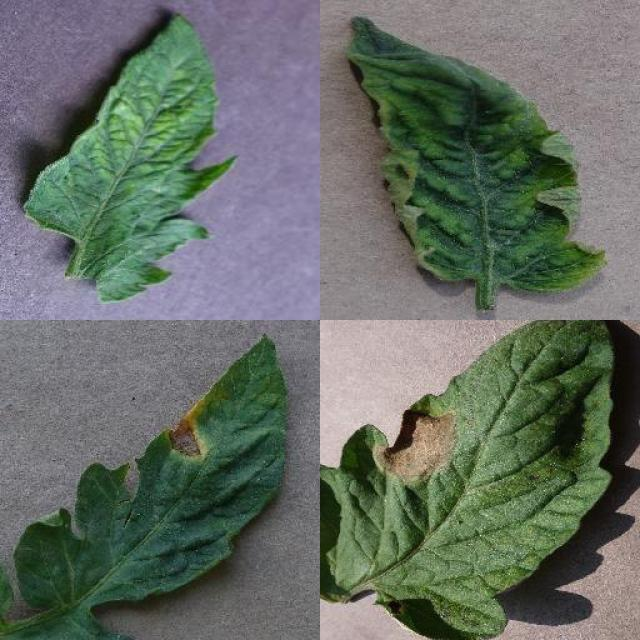Early Blight: (15, 337, 291, 608)
Late Blight: (320, 320, 615, 640)
